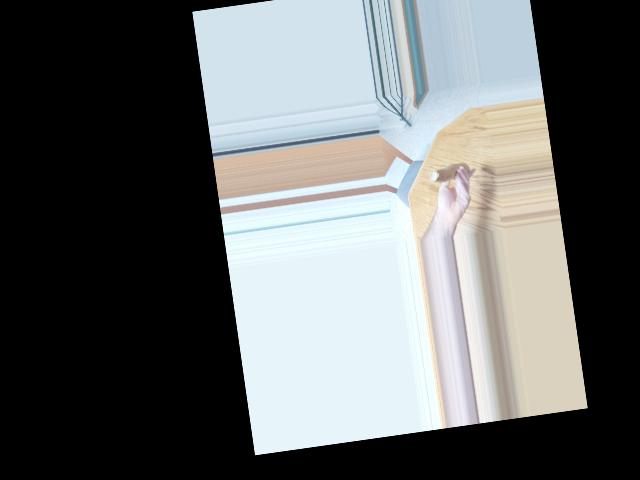sweet_potato: (435, 161, 468, 184)
